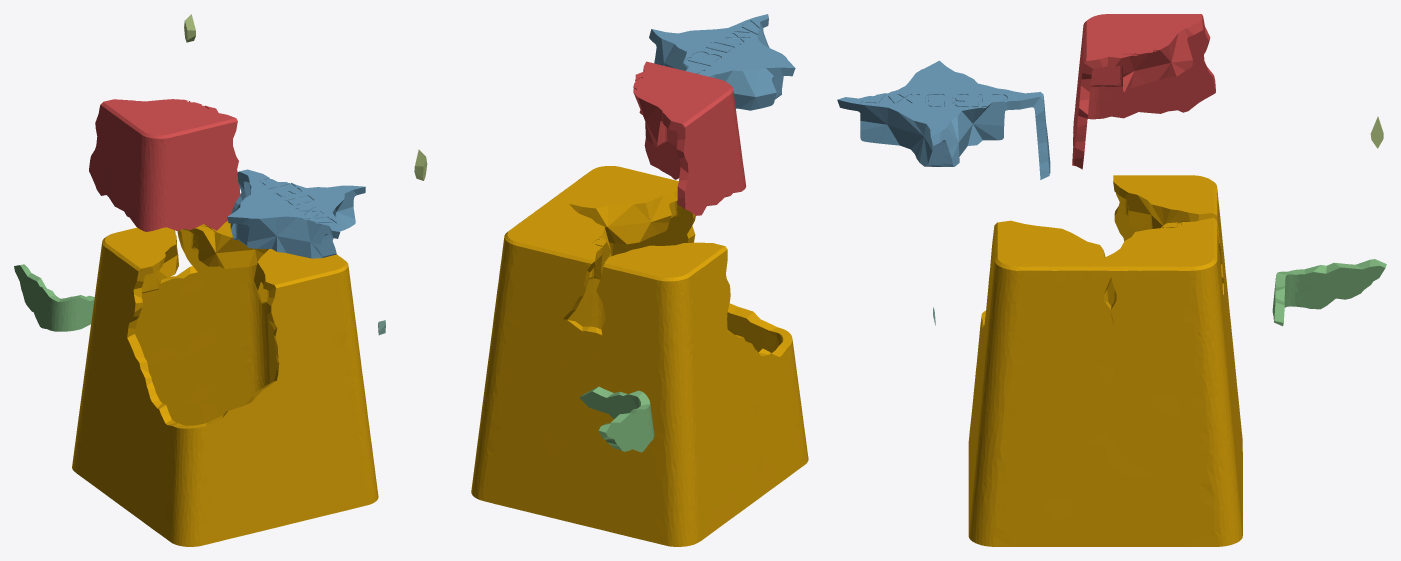
The model's file is fractured_46_6pcs_transformed.glb.
3 renders of one model, left to right at view 1: azimuth 30°, elevation 25°; view 2: azimuth 150°, elevation 25°; view 3: azimuth 270°, elevation 25°, orthographic. The views are drawn at different scales.
Visible parts, largest first — view 1: piece_0.obj, piece_1.obj, piece_2.obj, piece_3.obj; view 2: piece_0.obj, piece_1.obj, piece_2.obj, piece_3.obj; view 3: piece_0.obj, piece_1.obj, piece_2.obj, piece_3.obj.
Boxes of the visible parts, bbox=[...] form: piece_0.obj: bbox=[72, 221, 378, 546]; piece_1.obj: bbox=[89, 99, 240, 231]; piece_2.obj: bbox=[227, 169, 365, 258]; piece_3.obj: bbox=[14, 264, 94, 331]; piece_0.obj: bbox=[471, 166, 808, 546]; piece_1.obj: bbox=[633, 61, 746, 215]; piece_2.obj: bbox=[649, 14, 795, 110]; piece_3.obj: bbox=[579, 386, 654, 452]; piece_0.obj: bbox=[968, 175, 1242, 546]; piece_1.obj: bbox=[1072, 14, 1215, 169]; piece_2.obj: bbox=[837, 60, 1050, 179]; piece_3.obj: bbox=[1272, 259, 1386, 326].
Size of the model in its own units: 0.9245 by 1.6 by 1.85.
